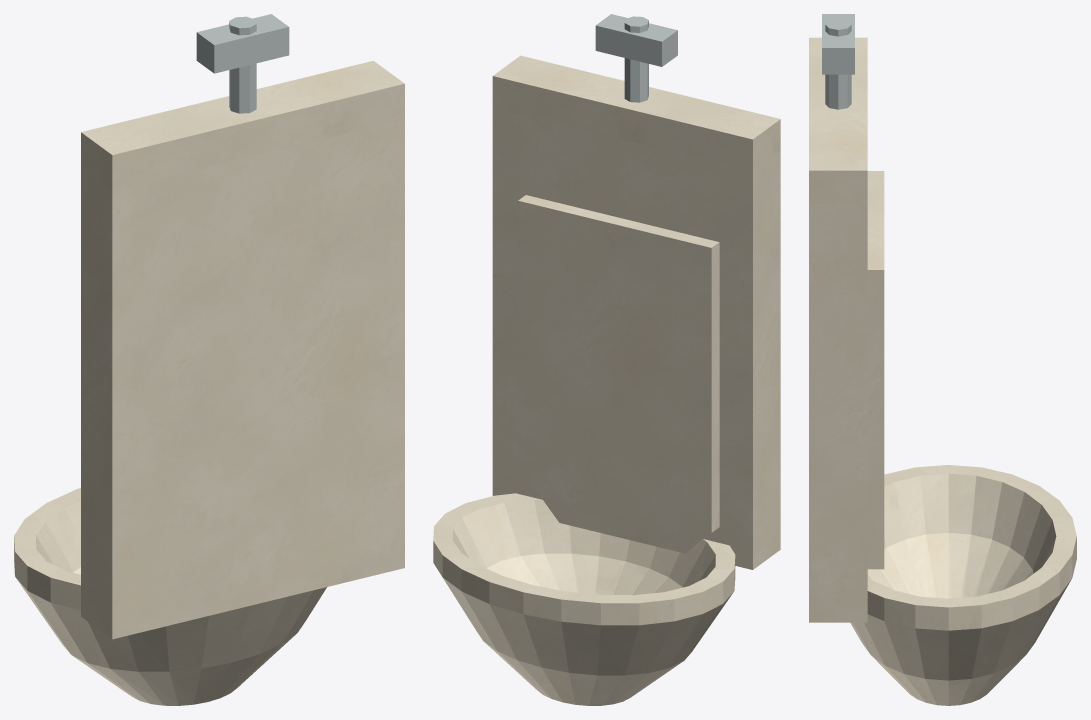
Rendered from bath-urinal-wall.gltf.
3 views of the same model, side by side, from view 1: azimuth 30°, elevation 25°; view 2: azimuth 150°, elevation 25°; view 3: azimuth 270°, elevation 25° (orthographic). The views are drawn at different scales.
Visible parts, largest first — view 1: fixture-ceramic, fixture-metal; view 2: fixture-ceramic, fixture-metal; view 3: fixture-ceramic, fixture-metal.
Part boxes in pixels (x1,y1,x2,y2): fixture-ceramic: (14,60,404,705); fixture-metal: (196,14,289,113); fixture-ceramic: (433,55,780,705); fixture-metal: (595,14,677,102); fixture-ceramic: (809,37,1076,705); fixture-metal: (822,14,854,109).
Size of the model in its own units: 0.46 by 0.99 by 0.365.
3 materials, 1 textured.
